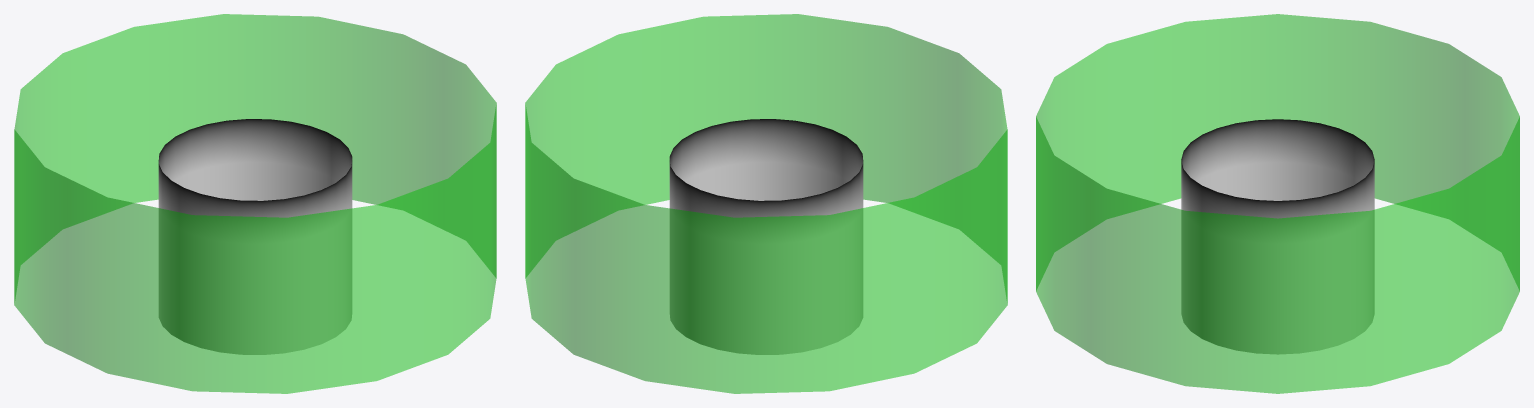
File: checkpoint_cylinder.fbx
3 views of the same model, side by side, from view 1: azimuth 30°, elevation 25°; view 2: azimuth 150°, elevation 25°; view 3: azimuth 270°, elevation 25° (orthographic).
Parts seen in each view (by area): view 1: CP_cylinderCOL, CP_cylinder; view 2: CP_cylinderCOL, CP_cylinder; view 3: CP_cylinderCOL, CP_cylinder.
Part boxes in pixels (x1,y1,x2,y2): CP_cylinderCOL: (14, 14, 496, 393); CP_cylinder: (158, 119, 352, 354); CP_cylinderCOL: (525, 14, 1007, 393); CP_cylinder: (669, 119, 863, 354); CP_cylinderCOL: (1036, 14, 1519, 393); CP_cylinder: (1181, 119, 1374, 354).
Bounding box in the file's own units: 10 × 4.5 × 10.
